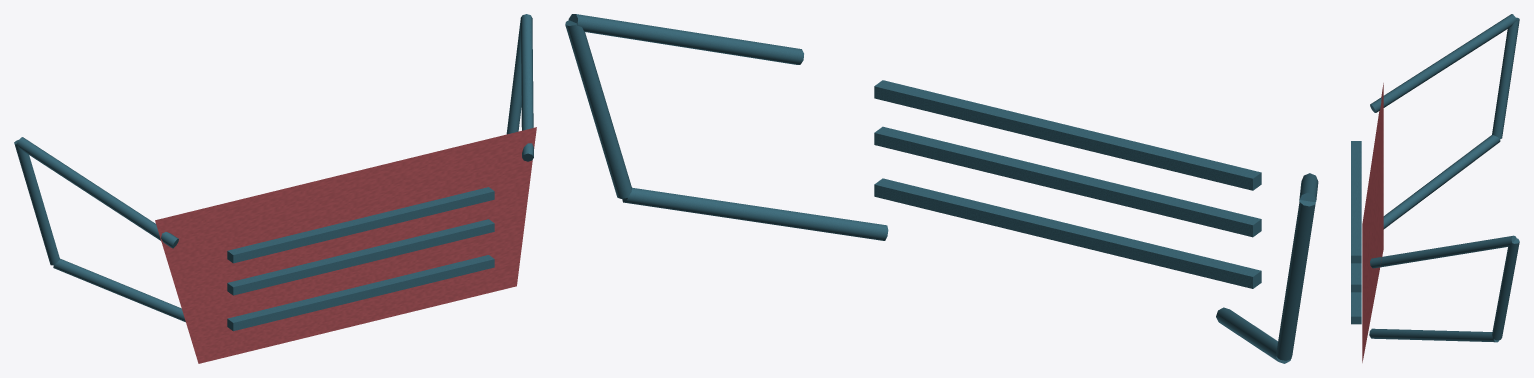
The model's file is reference_face_mask.gltf.
3 views of the same model, side by side, from view 1: azimuth 30°, elevation 25°; view 2: azimuth 150°, elevation 25°; view 3: azimuth 270°, elevation 25° (orthographic). The views are drawn at different scales.
Visible parts, largest first — view 1: Face Mask; view 2: Face Mask; view 3: Face Mask.
Boxes of the visible parts, box(x1,y1,x2,y2) form: Face Mask: box(14, 14, 536, 363); Face Mask: box(565, 14, 1318, 363); Face Mask: box(1351, 14, 1519, 362).
Bounding box in the file's own units: 0.4548 × 0.1582 × 0.143.
Materials: 2 (2 with a texture image).
